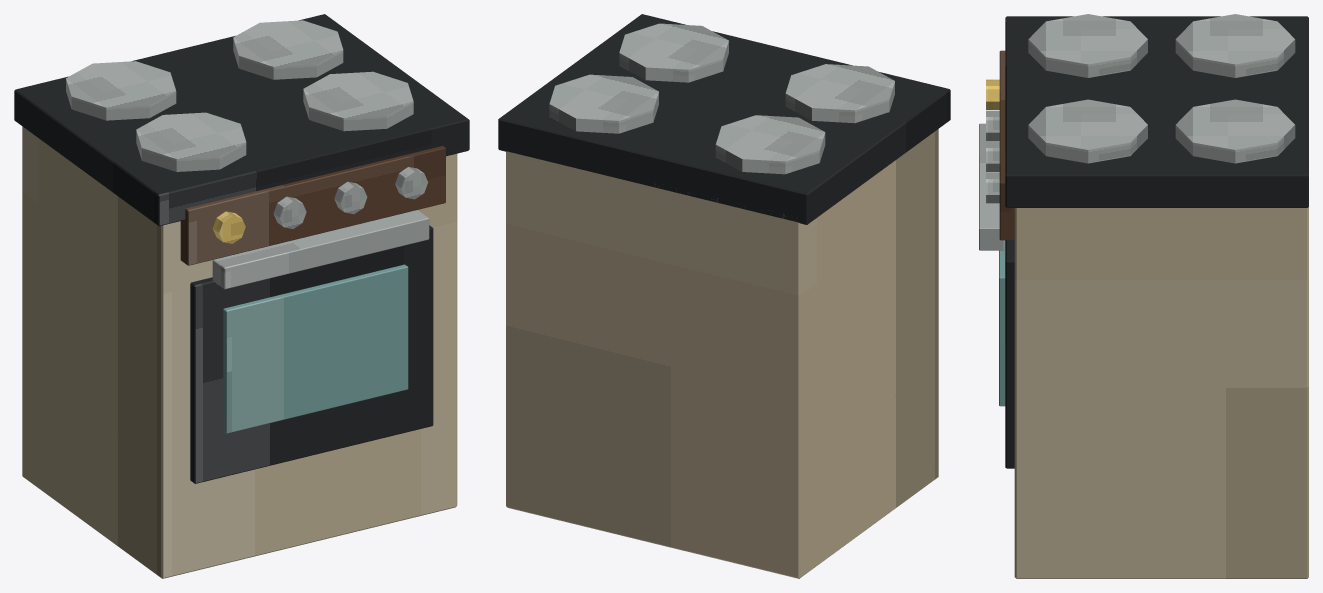
The model's file is normal_kitchen_stove.glb.
3 renders of one model, left to right at view 1: azimuth 30°, elevation 25°; view 2: azimuth 150°, elevation 25°; view 3: azimuth 270°, elevation 25°, orthographic. The views are drawn at different scales.
Parts seen in each view (by area): view 1: RangeBody, Cooktop, OvenWindow, OvenDoor, RangeControls, OvenHandle, Burner_4, Burner_1, Burner_3, Burner_2, RangeKnob_1, RangeKnob_2 (+2 smaller); view 2: RangeBody, Cooktop, Burner_3, Burner_4, Burner_2, Burner_1; view 3: RangeBody, Cooktop, Burner_4, Burner_3, Burner_2, Burner_1, OvenDoor, OvenHandle, RangeControls, OvenWindow, RangeKnob_1, RangeKnob_2 (+2 smaller).
Part boxes in pixels (box(x1,y1,x2,y2)): RangeBody: box(22, 126, 457, 578); Cooktop: box(14, 14, 469, 226); OvenWindow: box(223, 264, 408, 433); OvenDoor: box(190, 225, 433, 483); RangeControls: box(180, 146, 445, 265); OvenHandle: box(212, 210, 429, 289); Burner_4: box(233, 20, 343, 79); Burner_1: box(136, 112, 246, 171); Burner_3: box(66, 61, 176, 120); Burner_2: box(303, 71, 413, 131); RangeKnob_1: box(212, 211, 245, 243); RangeKnob_2: box(273, 196, 306, 228); RangeBody: box(506, 129, 938, 578); Cooktop: box(498, 14, 950, 224); Burner_3: box(715, 115, 825, 174); Burner_4: box(549, 74, 658, 133); Burner_2: box(619, 23, 728, 82); Burner_1: box(785, 64, 894, 123); RangeBody: box(1014, 207, 1308, 578); Cooktop: box(1005, 16, 1308, 207); Burner_4: box(1175, 99, 1295, 163); Burner_3: box(1175, 14, 1295, 77); Burner_2: box(1028, 99, 1147, 163); Burner_1: box(1028, 14, 1147, 77); OvenDoor: box(1005, 240, 1014, 468); OvenHandle: box(979, 123, 1004, 250); RangeControls: box(999, 50, 1014, 240); OvenWindow: box(999, 240, 1005, 406); RangeKnob_1: box(986, 79, 999, 109); RangeKnob_2: box(986, 110, 999, 140).
Bounding box in the file's own units: 0.82 × 1.01 × 0.7175.
Materials: 1 (1 with a texture image).
